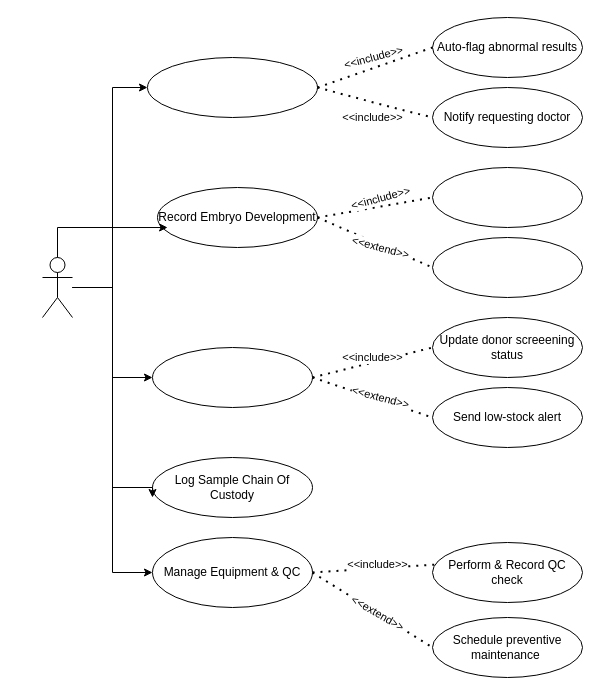
This 600x695 diagram has some shape labels left out. The box of each missing label's shape, as (x1, y1, x2, y2) in pixels:
Lab Technician: (42, 256, 72, 318)
Manage Donation Back Stock: (152, 346, 312, 408)
Record cryopreservation: (432, 166, 582, 228)
Upload microscopy image: (432, 236, 582, 298)
Upload Test Report: (146, 56, 318, 118)
